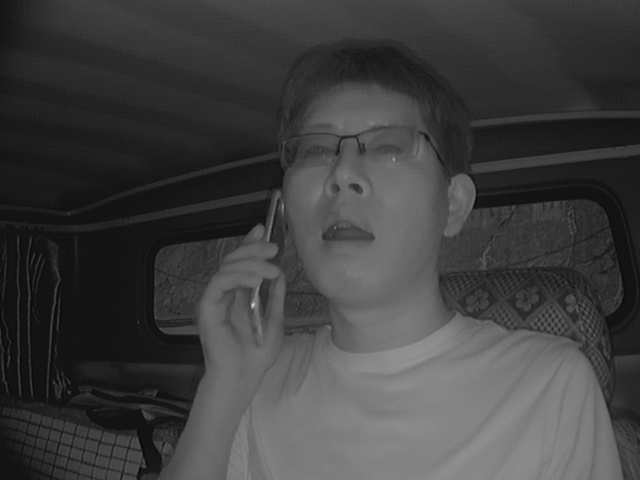hand: (191, 225, 293, 367)
